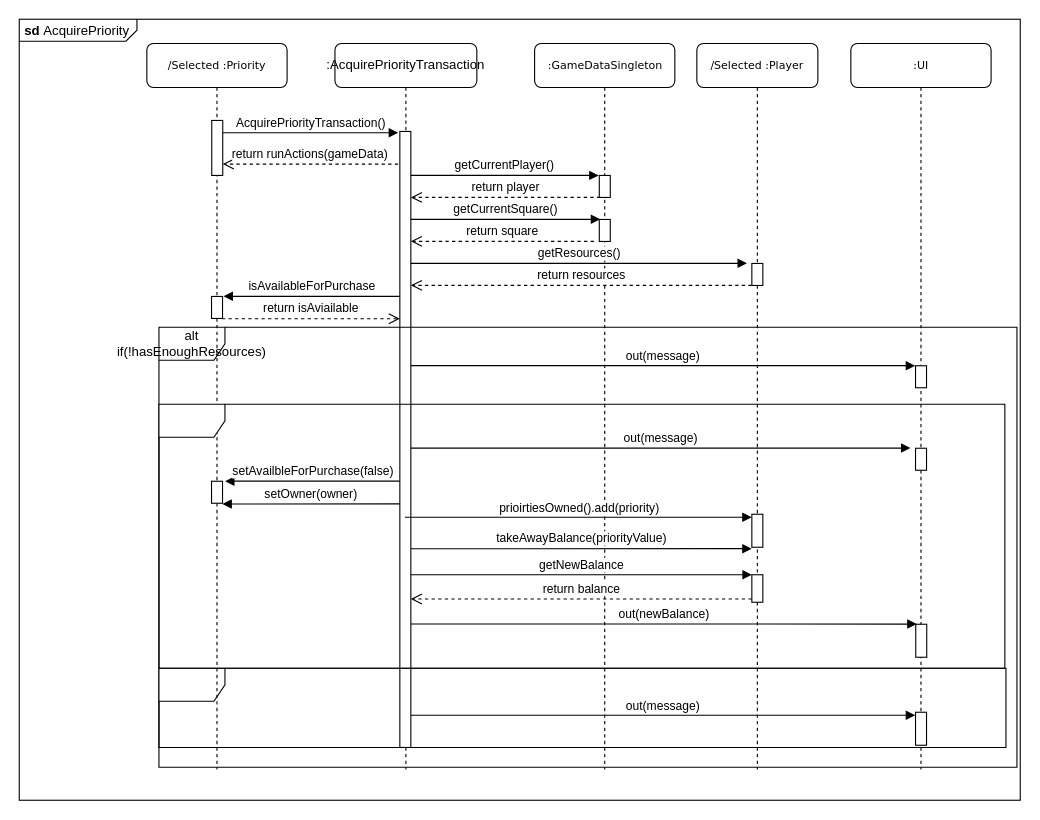
This 1040x820 diagram has some shape labels left out. The centre of each missing label's shape, as x and y in pixels:
"alt else" goes at (x=582, y=707).
"alt if(isAvailableForPurchase)" goes at (x=581, y=535).
